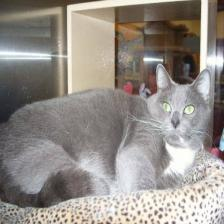cat: (149, 63, 220, 153)
